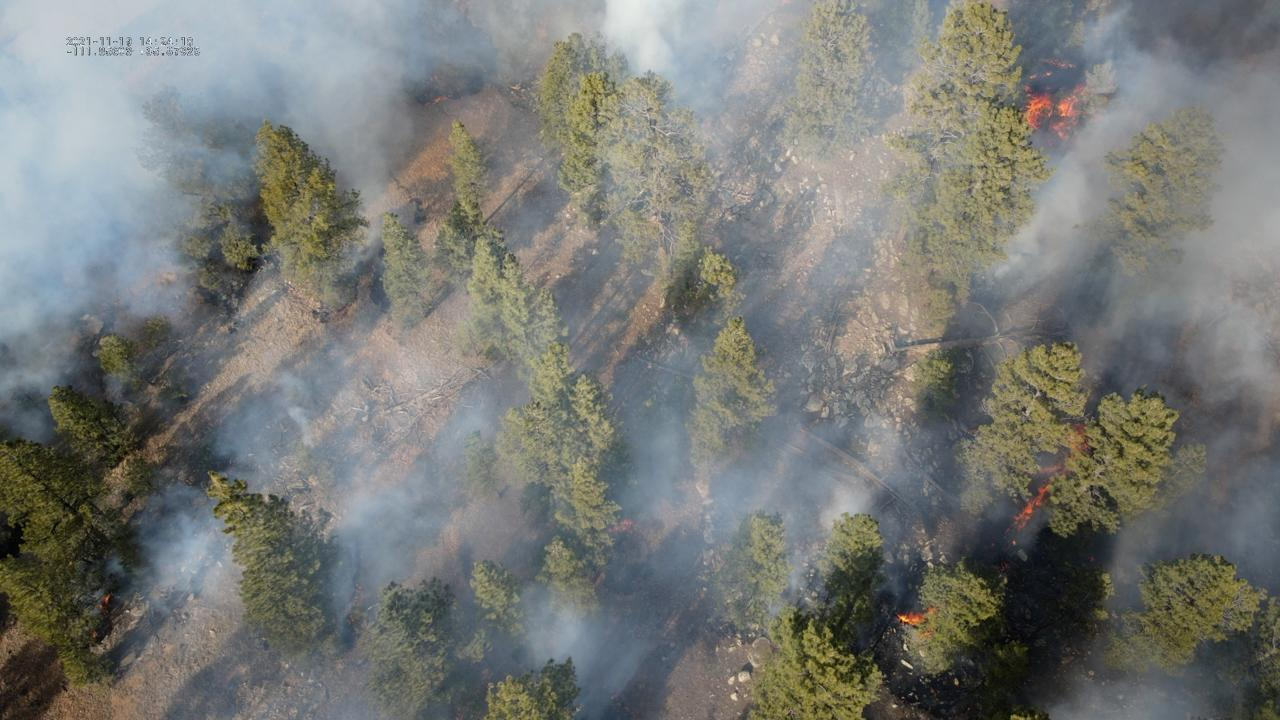fire: (1025, 85, 1089, 140), (1037, 422, 1091, 476), (1002, 482, 1050, 535), (893, 605, 938, 626), (1039, 57, 1068, 69), (94, 593, 111, 609), (428, 94, 446, 105), (91, 628, 97, 638), (1028, 74, 1037, 80), (1012, 539, 1017, 547), (1045, 71, 1053, 76)
smoke: (0, 0, 1280, 720)
